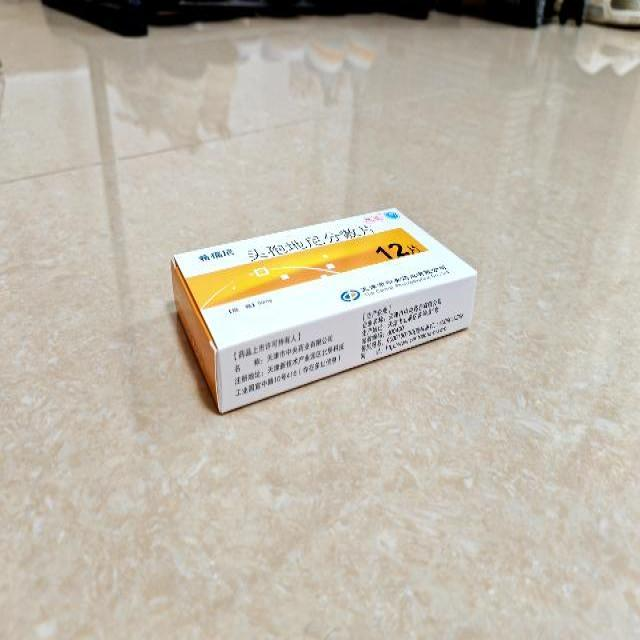box: (174, 205, 478, 414)
